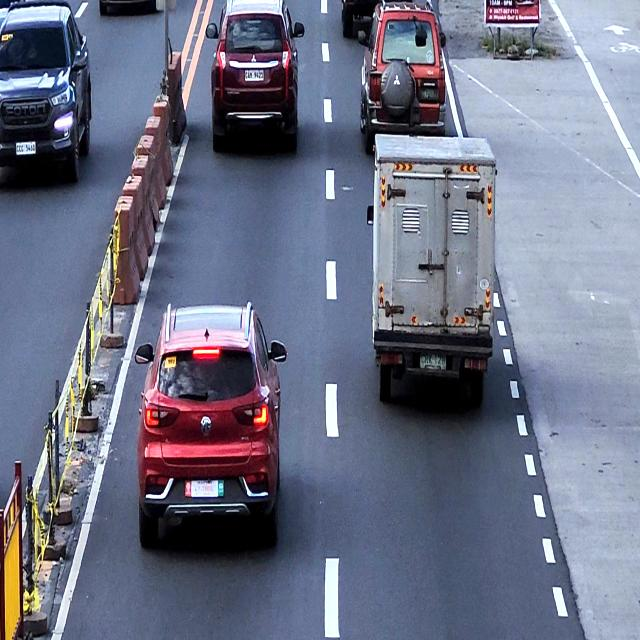Car: (135, 301, 287, 548), (0, 0, 92, 182), (205, 0, 305, 150), (358, 0, 446, 154)
License-Plate: (191, 478, 219, 498), (419, 353, 447, 372), (244, 69, 265, 82), (16, 142, 36, 155), (421, 88, 440, 101)
Truck: (367, 133, 497, 404)
